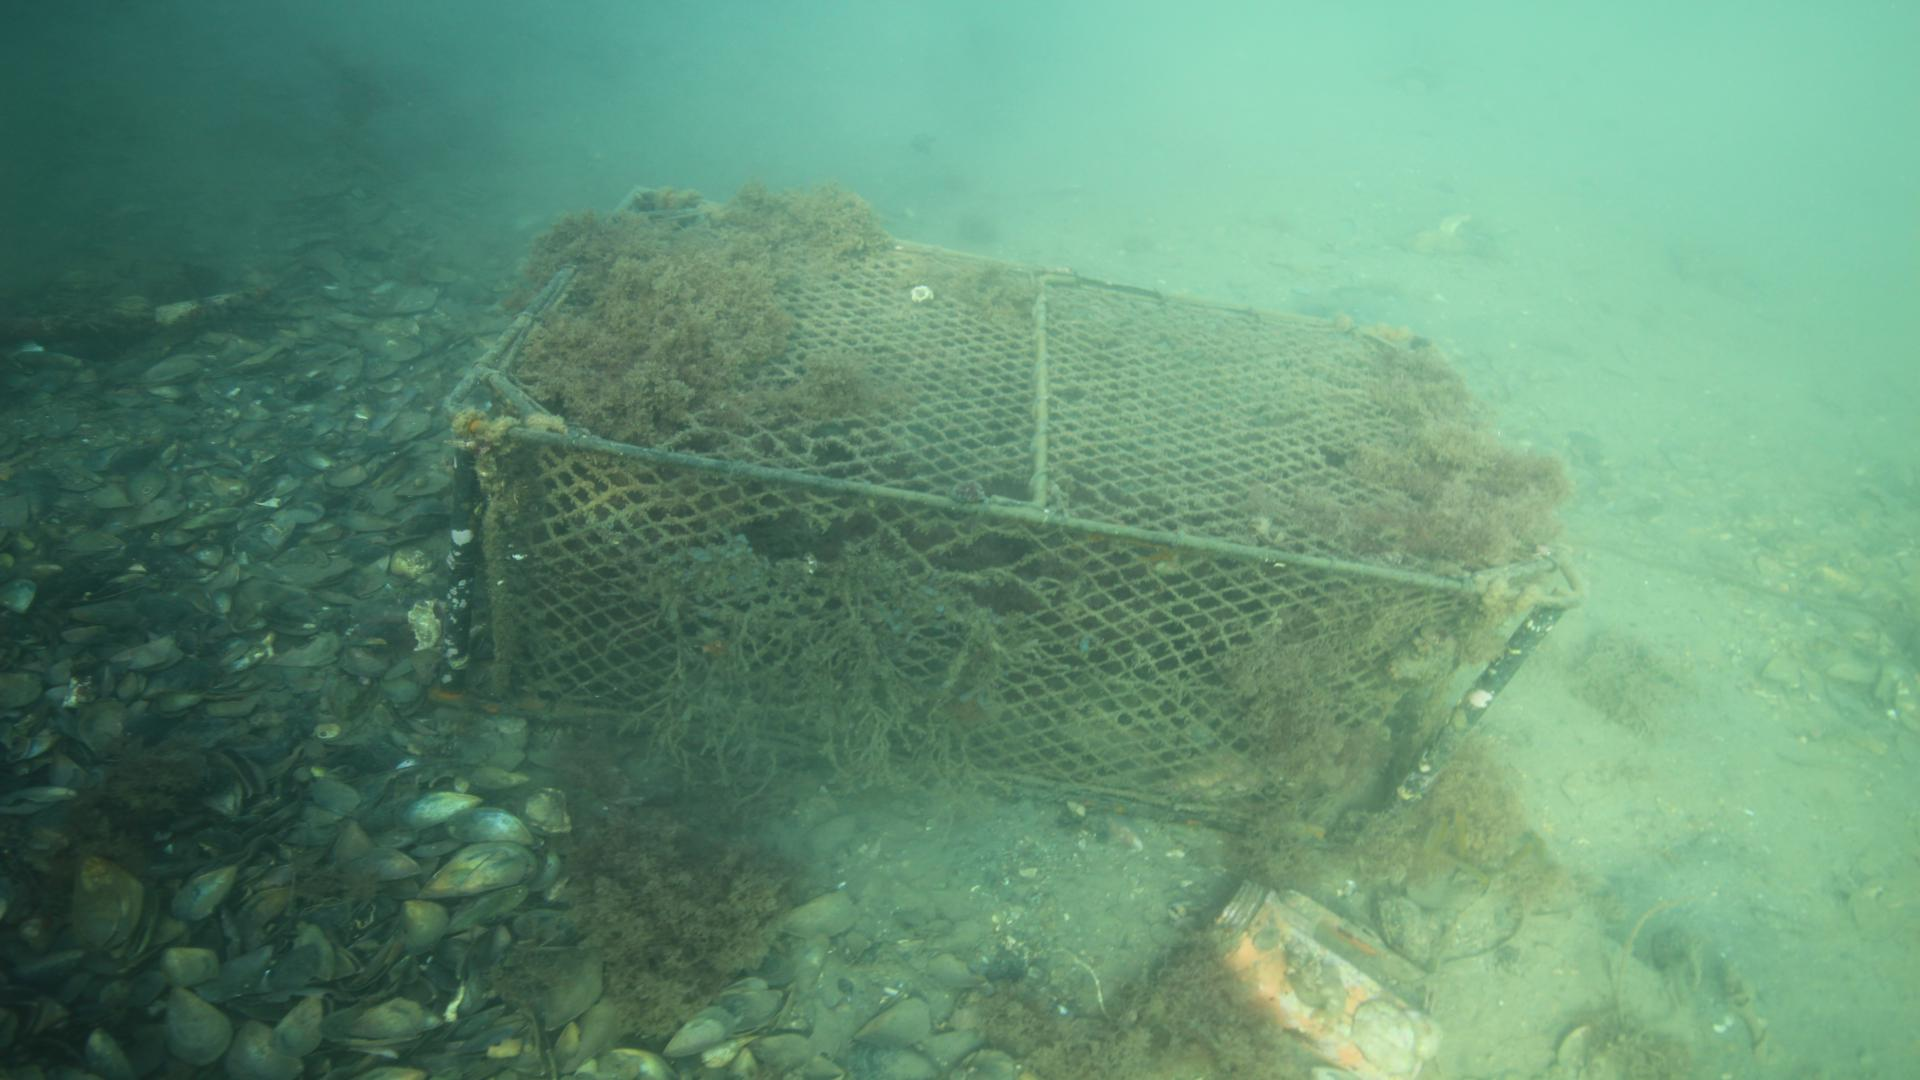rectangular fish trap: (443, 179, 1586, 855)
